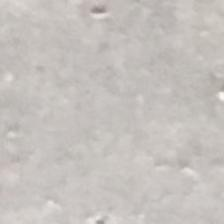Non_Crack: (13, 31, 214, 190)
